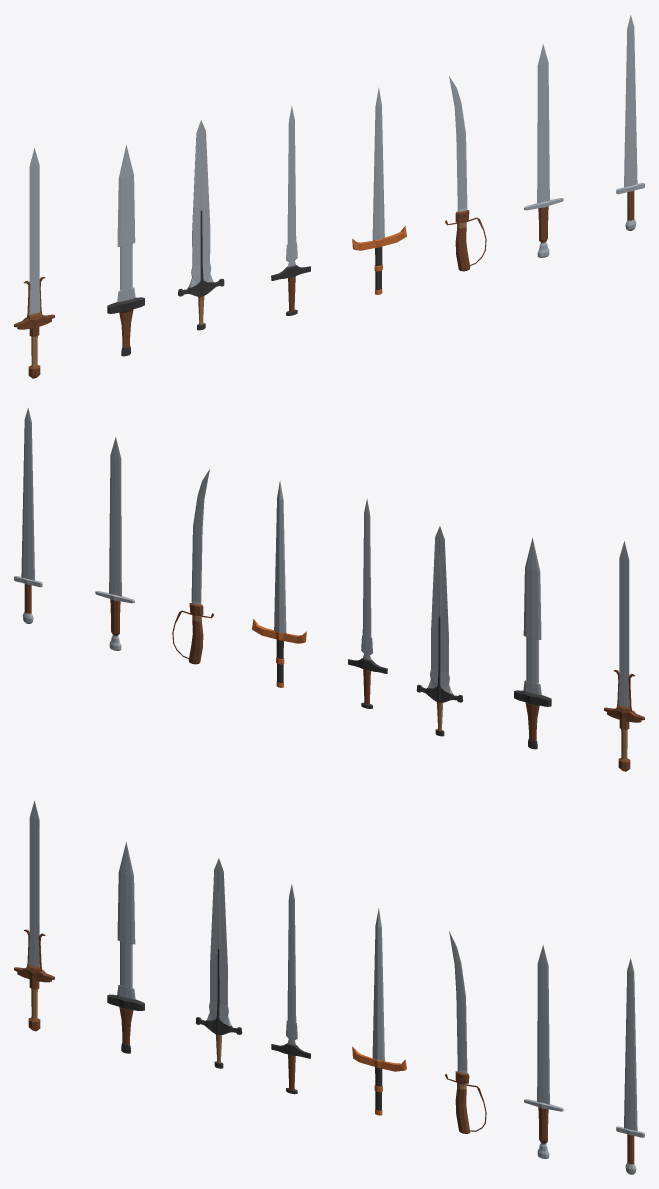
The model's file is Low Poly Swords Asset 2.fbx.
The picture shows the model from 3 angles, top to bottom: view 1: azimuth 30°, elevation 25°; view 2: azimuth 150°, elevation 25°; view 3: azimuth 330°, elevation 25°; orthographic projection.
Parts seen in each view (by area): view 1: Sword 3, Sword 2, Sword 1, Sword 7, Sword 8, Sword 5, Sword 6, Sword 4; view 2: Sword 3, Sword 2, Sword 1, Sword 7, Sword 8, Sword 5, Sword 6, Sword 4; view 3: Sword 3, Sword 2, Sword 1, Sword 7, Sword 8, Sword 5, Sword 6, Sword 4.
Boxes of the visible parts, box(x1,y1,x2,y2) form: Sword 3: box(178, 120, 224, 330); Sword 2: box(107, 145, 144, 356); Sword 1: box(14, 148, 54, 378); Sword 7: box(524, 44, 563, 257); Sword 8: box(616, 15, 644, 230); Sword 5: box(352, 87, 406, 294); Sword 6: box(445, 76, 486, 271); Sword 4: box(271, 105, 310, 315); Sword 3: box(416, 526, 463, 736); Sword 2: box(514, 538, 551, 749); Sword 1: box(604, 541, 644, 771); Sword 7: box(95, 437, 134, 650); Sword 8: box(14, 408, 42, 623); Sword 5: box(252, 480, 306, 687); Sword 6: box(172, 469, 213, 664); Sword 4: box(348, 498, 387, 708); Sword 3: box(195, 858, 242, 1068); Sword 2: box(107, 842, 144, 1053); Sword 1: box(14, 800, 54, 1031); Sword 7: box(524, 945, 563, 1158); Sword 8: box(616, 958, 644, 1174); Sword 5: box(352, 908, 406, 1115); Sword 6: box(445, 931, 486, 1133); Sword 4: box(271, 884, 310, 1094).
Size of the model in its own units: 396 by 140 by 14.1.
